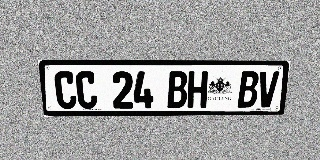2: (112, 71, 133, 109)
4: (133, 71, 153, 108)
B: (237, 71, 260, 108), (167, 71, 188, 108)
C: (54, 71, 77, 109), (75, 71, 98, 109)
H: (187, 71, 208, 108)
V: (257, 71, 279, 108)
